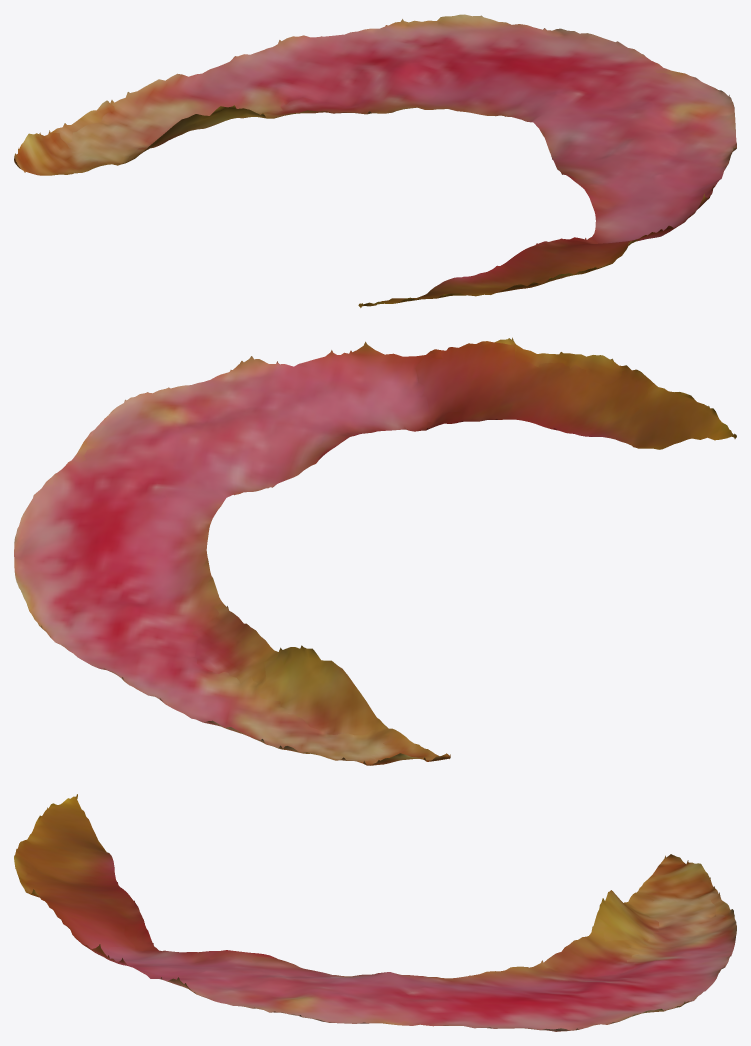
File: Zona_D_Maceracija.obj
3 views of the same model, one above another, from view 1: azimuth 30°, elevation 25°; view 2: azimuth 150°, elevation 25°; view 3: azimuth 270°, elevation 25° (orthographic). The views are drawn at different scales.
Visible parts, largest first — view 1: Iliostoma_su_plokštele_nevalyta_su_maceracija_02.001_Iliostoma_s; view 2: Iliostoma_su_plokštele_nevalyta_su_maceracija_02.001_Iliostoma_s; view 3: Iliostoma_su_plokštele_nevalyta_su_maceracija_02.001_Iliostoma_s.
Part boxes in pixels (bbox=[...]): Iliostoma_su_plokštele_nevalyta_su_maceracija_02.001_Iliostoma_s: bbox=[14, 14, 736, 307]; Iliostoma_su_plokštele_nevalyta_su_maceracija_02.001_Iliostoma_s: bbox=[14, 337, 736, 765]; Iliostoma_su_plokštele_nevalyta_su_maceracija_02.001_Iliostoma_s: bbox=[14, 794, 736, 1031].
Size of the model in its own units: 0.1423 by 0.0301 by 0.1822.
